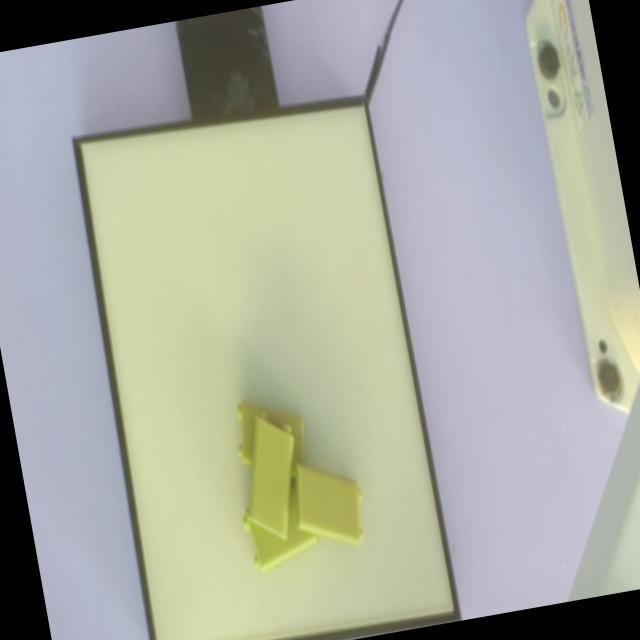bateria: (248, 410, 294, 540), (296, 461, 364, 545)
mesa: (71, 95, 461, 640)
